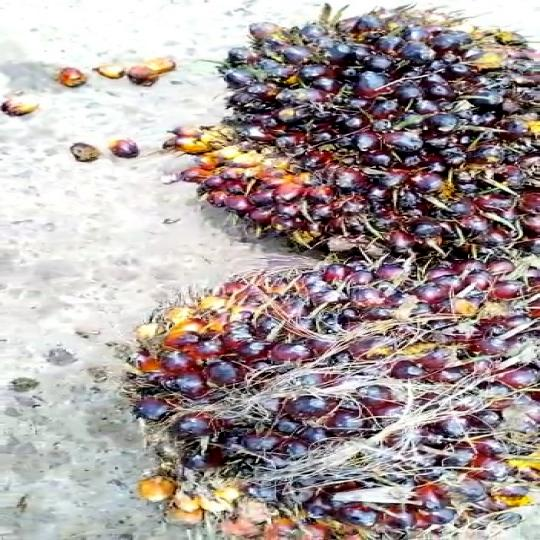kurang masak: (123, 253, 540, 539), (173, 13, 540, 255)
